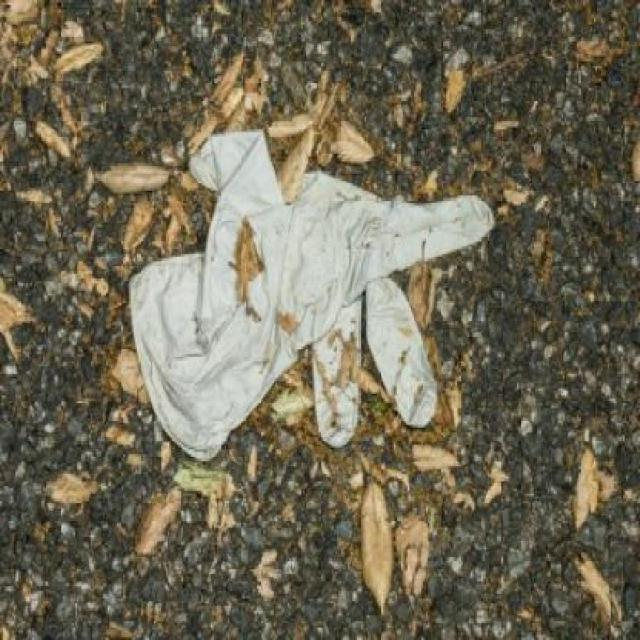glove_hand: (107, 126, 526, 479)
